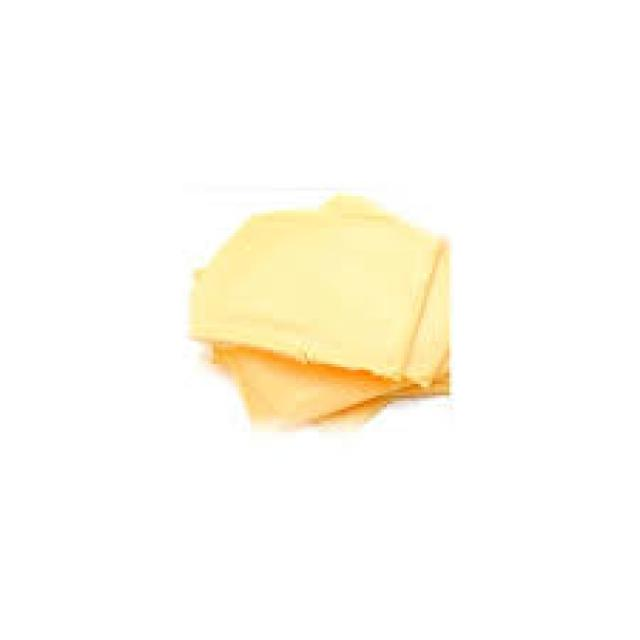slicecheese: (191, 195, 450, 425)
